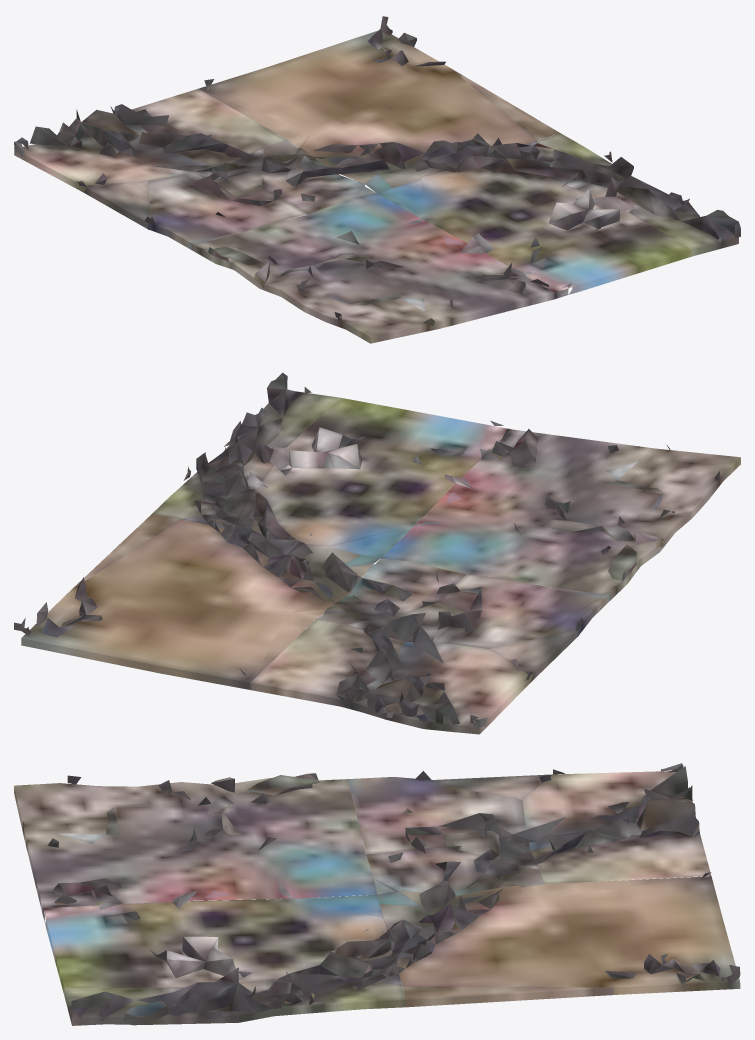
The picture shows the model from 3 angles, top to bottom: view 1: azimuth 30°, elevation 25°; view 2: azimuth 150°, elevation 25°; view 3: azimuth 270°, elevation 25°; orthographic projection. The views are drawn at different scales.
Parts seen in each view (by area): view 1: Mesh_0; view 2: Mesh_0; view 3: Mesh_0.
Boxes of the visible parts, x1,y1,x2,y2 form: Mesh_0: (14,16,740,343); Mesh_0: (14,372,740,734); Mesh_0: (14,763,740,1025).
Size of the model in its own units: 534 by 36.95 by 659.
Materials: 1 (1 with a texture image).
